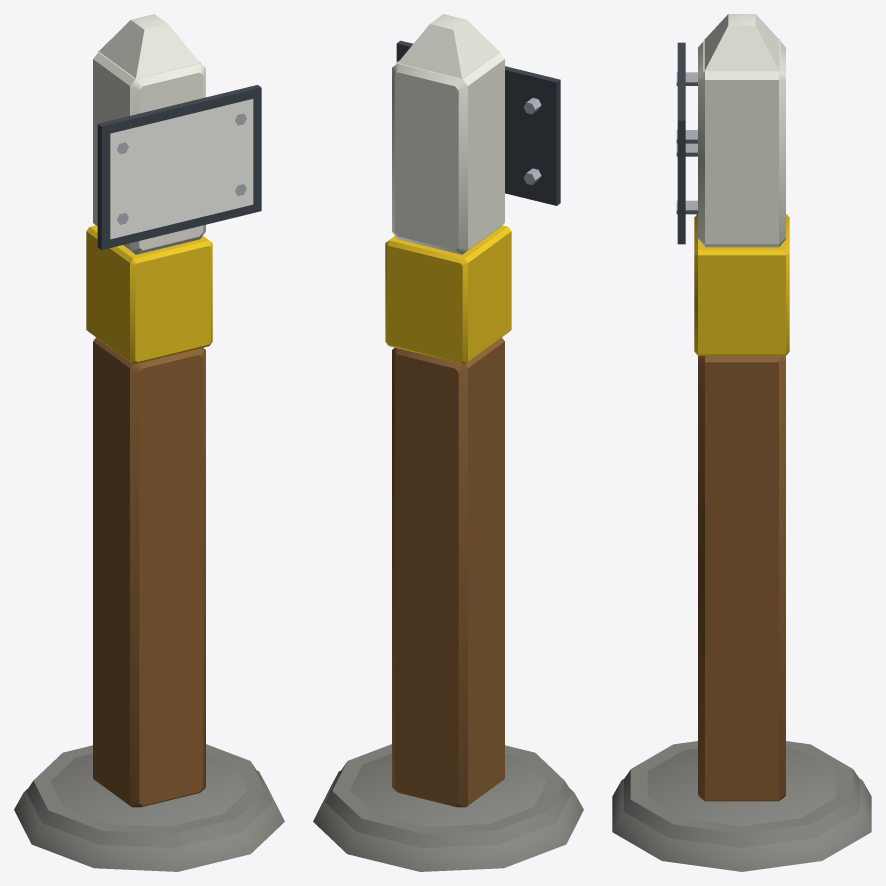
The model's file is yardage_post.glb.
The picture shows the model from 3 angles, left to right: view 1: azimuth 30°, elevation 25°; view 2: azimuth 150°, elevation 25°; view 3: azimuth 270°, elevation 25°; orthographic projection.
Visible parts, largest first — view 1: yardage_post_mesh; view 2: yardage_post_mesh; view 3: yardage_post_mesh.
Boxes of the visible parts, x1,y1,x2,y2 form: yardage_post_mesh: [14, 14, 284, 871]; yardage_post_mesh: [313, 14, 583, 871]; yardage_post_mesh: [612, 14, 871, 871].
Size of the model in its own units: 0.28 by 0.903 by 0.2663.
